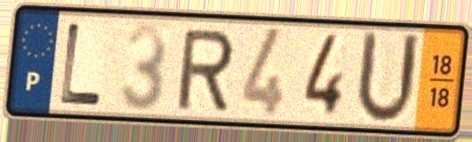3: (119, 20, 172, 114)
4: (239, 24, 290, 123), (301, 31, 348, 120)
L: (56, 19, 106, 108)
R: (173, 26, 238, 112)
U: (352, 27, 423, 129)
